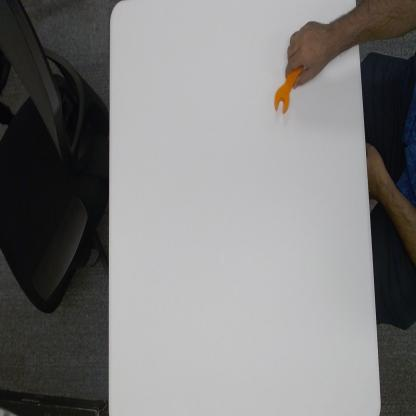Hand: (284, 14, 338, 90)
Screwdriver: (272, 64, 308, 117)
